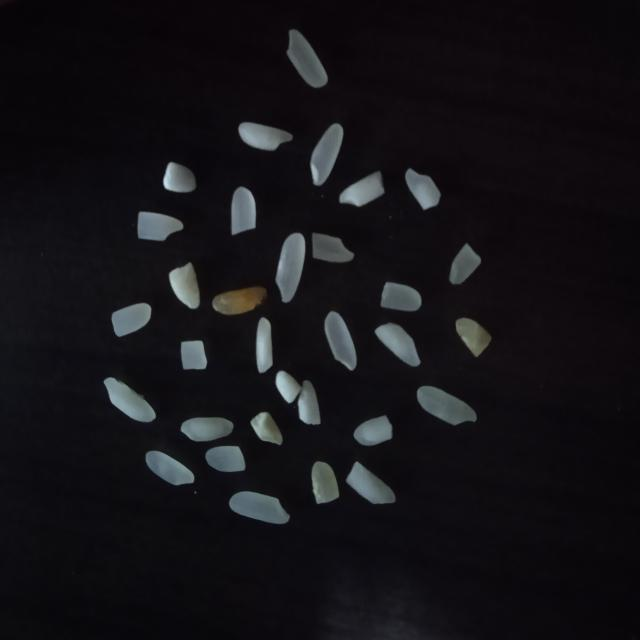Broken: (345, 460, 397, 504), (338, 170, 387, 212), (375, 322, 421, 366), (212, 286, 270, 316), (404, 167, 442, 212), (168, 261, 201, 310), (455, 317, 493, 358), (448, 242, 483, 285), (311, 232, 356, 264), (137, 212, 184, 242), (112, 302, 152, 337), (311, 460, 341, 505), (380, 280, 422, 312), (230, 186, 256, 236), (354, 414, 394, 446), (162, 160, 197, 193), (205, 445, 247, 472), (250, 411, 282, 446), (298, 380, 322, 425), (256, 316, 273, 374), (275, 371, 302, 404), (180, 340, 208, 370)
Full: (287, 29, 328, 90), (417, 385, 478, 426), (104, 376, 157, 423), (274, 232, 306, 303), (228, 490, 290, 526), (310, 121, 344, 186), (324, 310, 358, 372), (147, 450, 196, 485), (238, 122, 294, 152), (181, 416, 233, 442)
